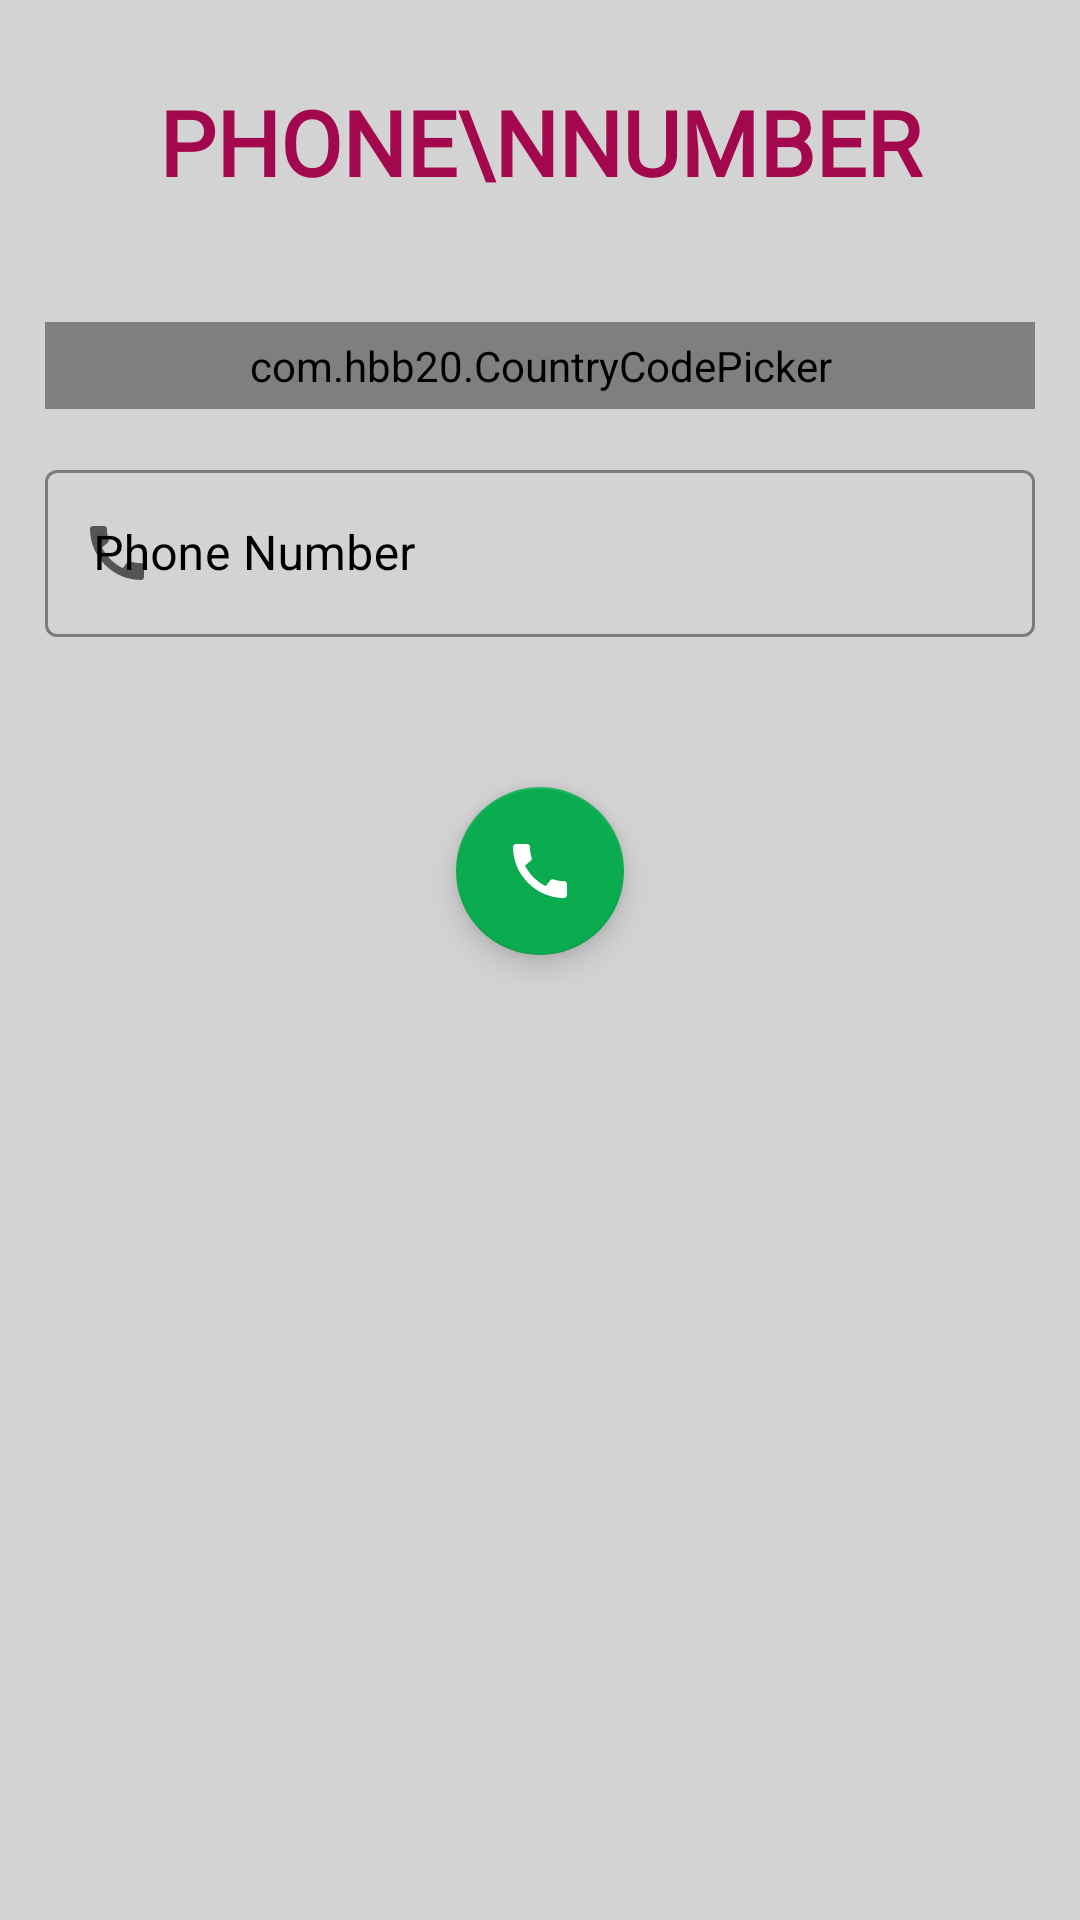

Icons on this 1080w x 1920h Android screen, each with the point to tap as (x=x, y=y):
call: (x=540, y=871)
